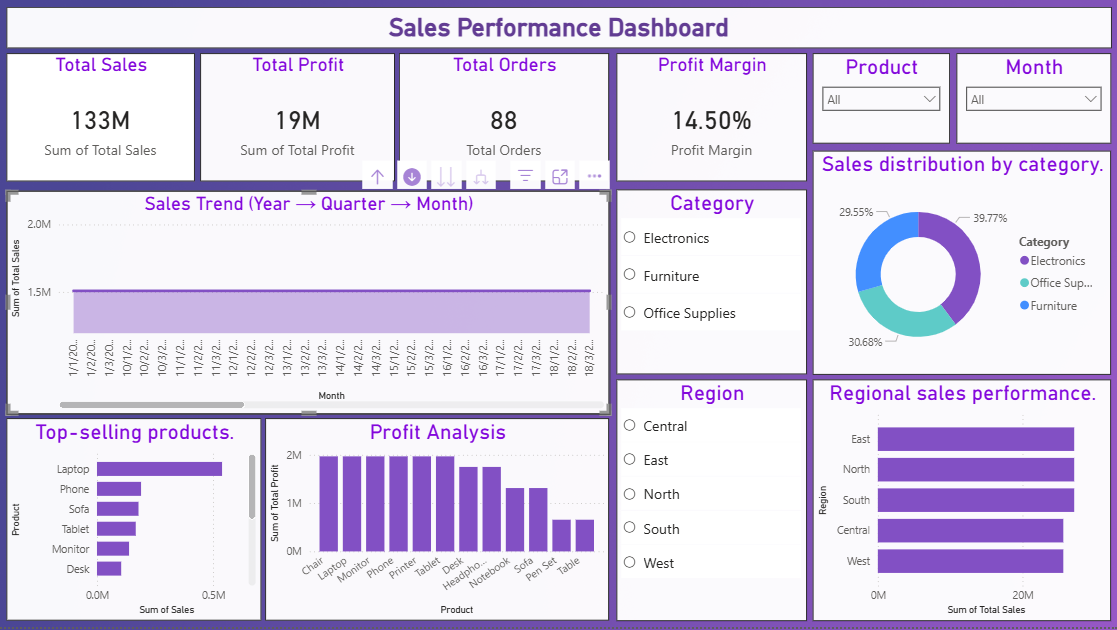

This screenshot's page, from the dashboard's own definition file:
{"tool":"powerbi","page":{"name":"Page 1","canvas":[1280,720],"ordinal":0},"visuals":[{"type":"card","title":"Total Sales","fields":{"Values":["Sum(Sheet1.Total Sales)"]},"box":[8.7,64.7,215.2,146.8],"z":0},{"type":"card","title":"Total Profit","fields":{"Values":["Sum(Sheet1.Total Profit)"]},"box":[230.1,64.7,222.7,146.8],"z":1000},{"type":"card","title":"Total Orders","fields":{"Values":["Sheet1.Total Orders"]},"box":[457.8,64.7,240.1,146.8],"z":2000},{"type":"card","title":"Profit Margin","fields":{"Values":["Sheet1.Profit Margin"]},"box":[705.3,64.7,217.7,146.8],"z":3000},{"type":"clusteredBarChart","title":"Regional sales performance.","fields":{"Category":["Sheet1.Region"],"Y":["Sum(Sheet1.Total Sales)"]},"box":[930.5,436.6,340.8,276.2],"z":4000},{"type":"clusteredBarChart","title":"Top-selling products.","fields":{"Category":["Sheet1.Product"],"Y":["Sum(Sheet1.Sales)"]},"box":[8.7,481.4,291.1,231.4],"z":5000},{"type":"donutChart","title":"Sales distribution by category.","fields":{"Category":["Sheet1.Category"],"Y":["Sum(Sheet1.Total Sales)"]},"box":[930.5,175.4,340.8,256.3],"z":6000},{"type":"clusteredColumnChart","title":"Profit Analysis","fields":{"Category":["Sheet1.Product"],"Y":["Sum(Sheet1.Total Profit)"]},"box":[304.8,481.4,393.1,231.4],"z":7000},{"type":"listSlicer","fields":{"Values":["Sheet1.Region"]},"box":[705.3,436.6,217.7,276.2],"z":8000},{"type":"listSlicer","fields":{"Values":["Sheet1.Category"]},"box":[705.3,220.2,217.7,211.5],"z":9000},{"type":"slicer","title":"Product","fields":{"Values":["Sheet1.Product"]},"box":[930.5,64.7,156.7,103.2],"z":10000},{"type":"slicer","title":"Month","fields":{"Values":["Sheet1.Month"]},"box":[1094.7,64.7,176.6,103.2],"z":11000},{"type":"areaChart","title":"Year → Quarter → Month Sales Analysis","fields":{"Category":["Sheet1.Order Date Hierarchy.Year","Sheet1.Order Date Hierarchy.Quarter","Sheet1.Order Date Hierarchy.Month"],"Y":["Sum(Sheet1.Total Sales)"]},"box":[8.7,221.4,689.2,255],"z":12000},{"type":"textbox","title":"Sales Performance Dashboard","box":[8.6,11.4,1262.9,47],"z":12001}]}

Visuals, with their boxes in screenshot pixels (x1, y1, x2, y2), scaled from the page's 1280x720 canvas onto the 1117x630 screenshot:
"Total Sales" card: 8,57,195,185
"Total Profit" card: 201,57,395,185
"Total Orders" card: 400,57,609,185
"Profit Margin" card: 615,57,805,185
"Regional sales performance." clusteredBarChart: 812,382,1109,624
"Top-selling products." clusteredBarChart: 8,421,262,624
"Sales distribution by category." donutChart: 812,153,1109,378
"Profit Analysis" clusteredColumnChart: 266,421,609,624
listSlicer - Sheet1.Region: 615,382,805,624
listSlicer - Sheet1.Category: 615,193,805,378
"Product" slicer: 812,57,949,147
"Month" slicer: 955,57,1109,147
"Year → Quarter → Month Sales Analysis" areaChart: 8,194,609,417
"Sales Performance Dashboard" textbox: 8,10,1110,51
